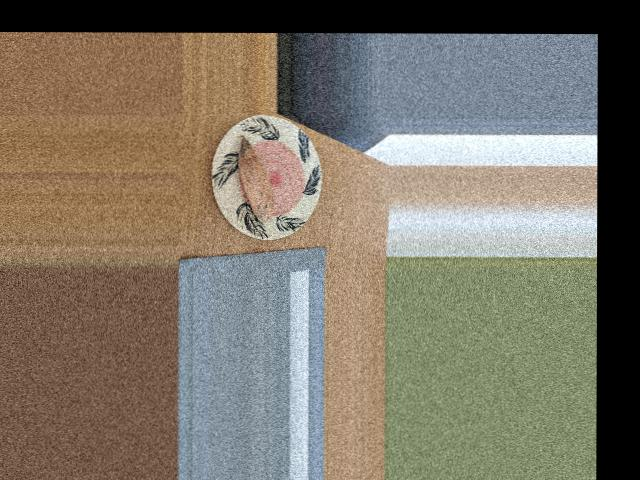sweet_potato: (231, 142, 279, 218)
